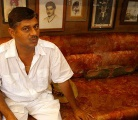male: (9, 7, 43, 48)
